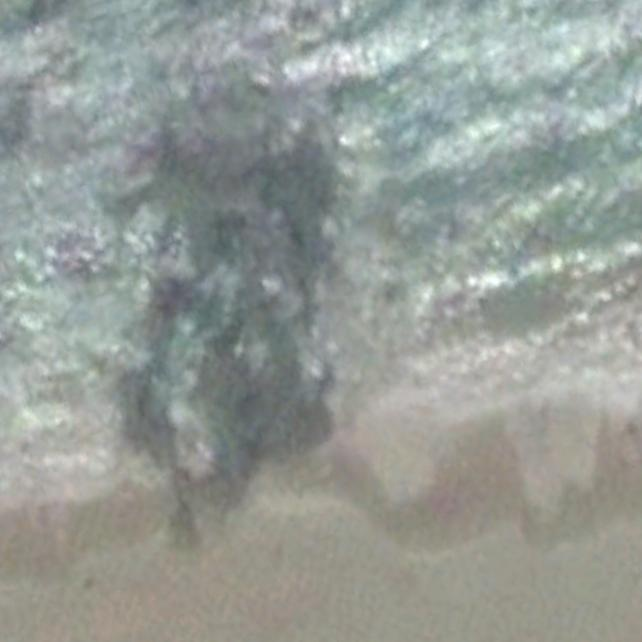rip_current: (82, 87, 387, 518)
